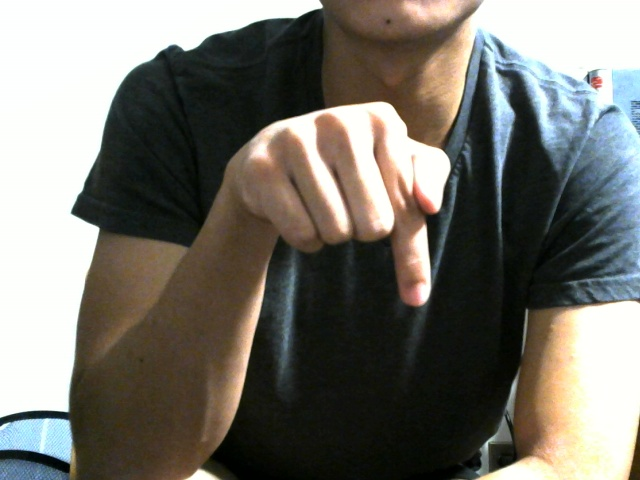down: (151, 62, 497, 355)
